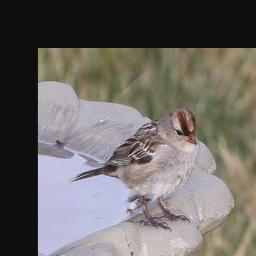Sparrow: (69, 107, 204, 233)
